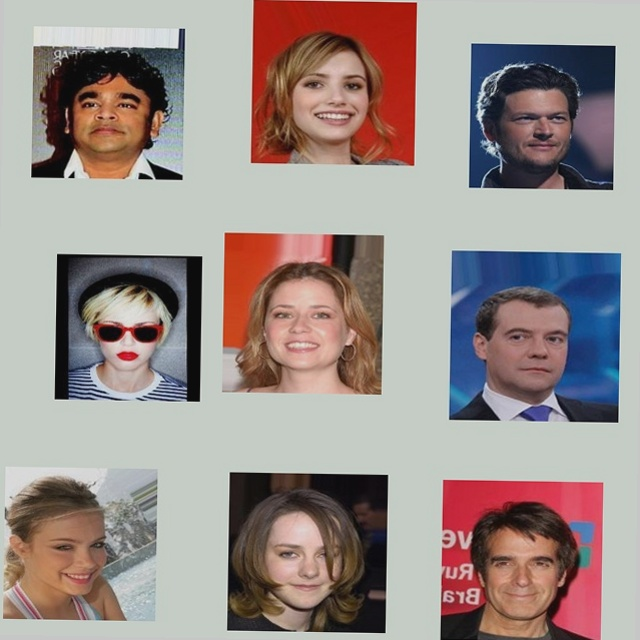celeb_10002: (11, 475, 166, 630)
celeb_1212: (463, 37, 609, 183)
celeb_2336: (449, 474, 612, 637)
celeb_2619: (450, 244, 622, 416)
celeb_2970: (244, 0, 410, 166)
celeb_4422: (235, 473, 396, 634)
celeb_4428: (222, 234, 384, 396)
celeb_7: (25, 34, 178, 188)
celeb_797: (55, 261, 203, 409)
